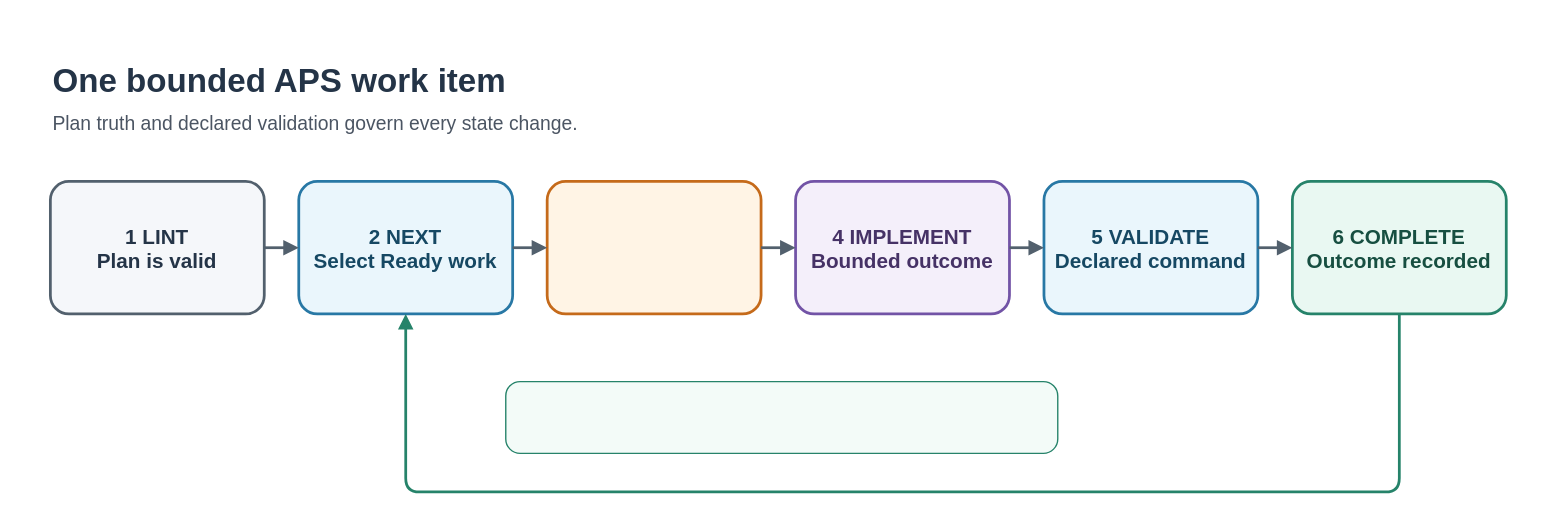
Image size: 1557x515. Some labels were removed from this diagram. Here are the shapes that lost their labels. From the top down, the centre of each, then its label:
At [653,247]: "3 START In Progress".
At [781,416]: "Continue the queue with aps lint and aps next".
